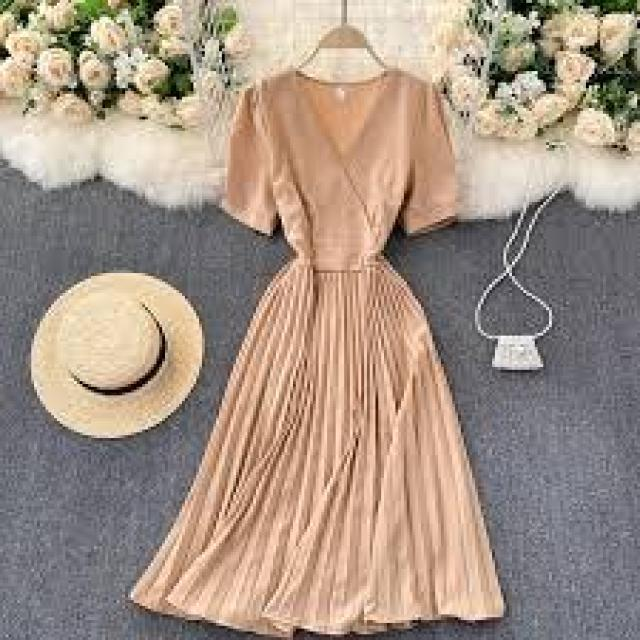dress: (122, 71, 509, 629)
